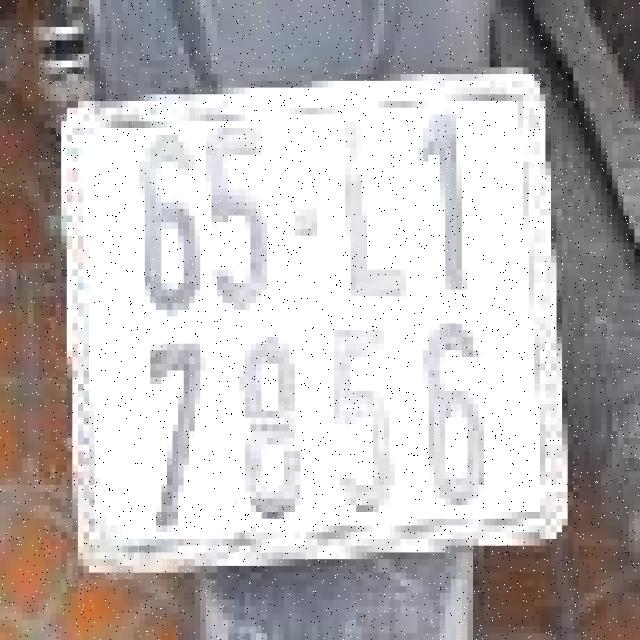1: (420, 108, 487, 303)
5: (323, 320, 406, 529), (198, 121, 286, 317)
6: (415, 320, 498, 522), (134, 131, 212, 320)
7: (148, 327, 215, 542)
8: (220, 330, 309, 532)
L: (331, 111, 415, 307)
